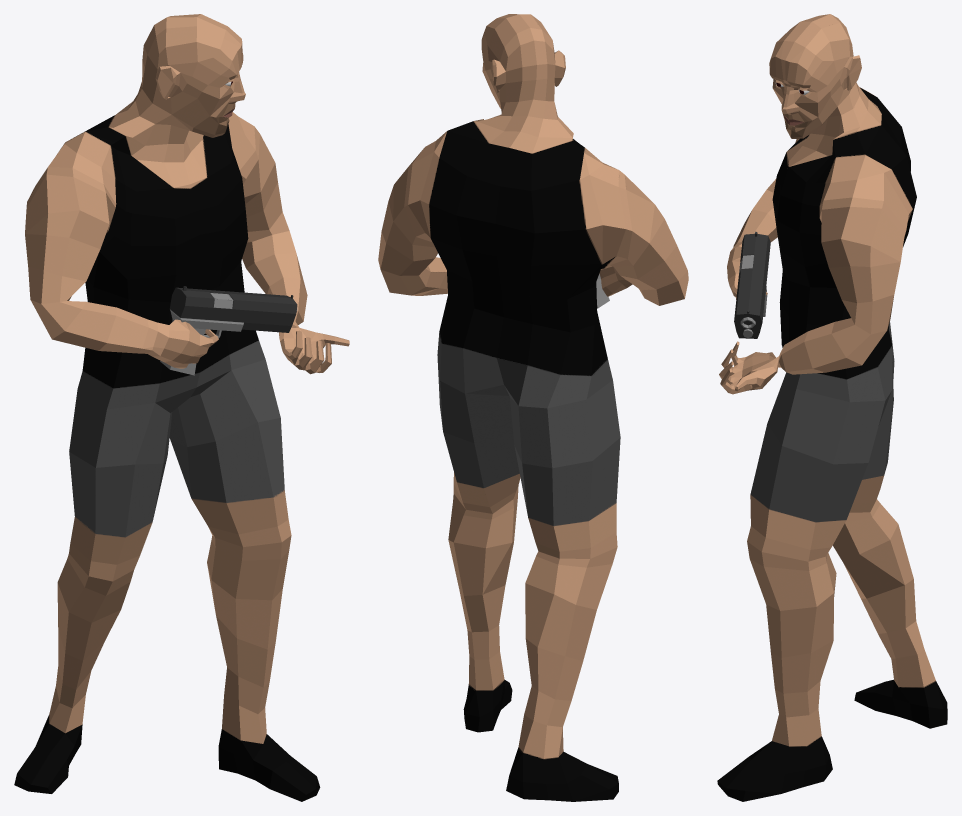
The model's file is PlayerIdle(145).obj.
3 renders of one model, left to right at view 1: azimuth 30°, elevation 25°; view 2: azimuth 150°, elevation 25°; view 3: azimuth 270°, elevation 25°, orthographic. The views are drawn at different scales.
Parts seen in each view (by area): view 1: Plane002, Box003; view 2: Plane002; view 3: Plane002, Box003.
Part boxes in pixels (x1=…): Plane002: x1=14, y1=14, x2=349, y2=801; Box003: x1=160, y1=286, x2=297, y2=375; Plane002: x1=378, y1=14, x2=688, y2=801; Plane002: x1=717, y1=14, x2=947, y2=801; Box003: x1=734, y1=231, x2=770, y2=338.
Size of the model in its own units: 702 by 1790 by 505.
